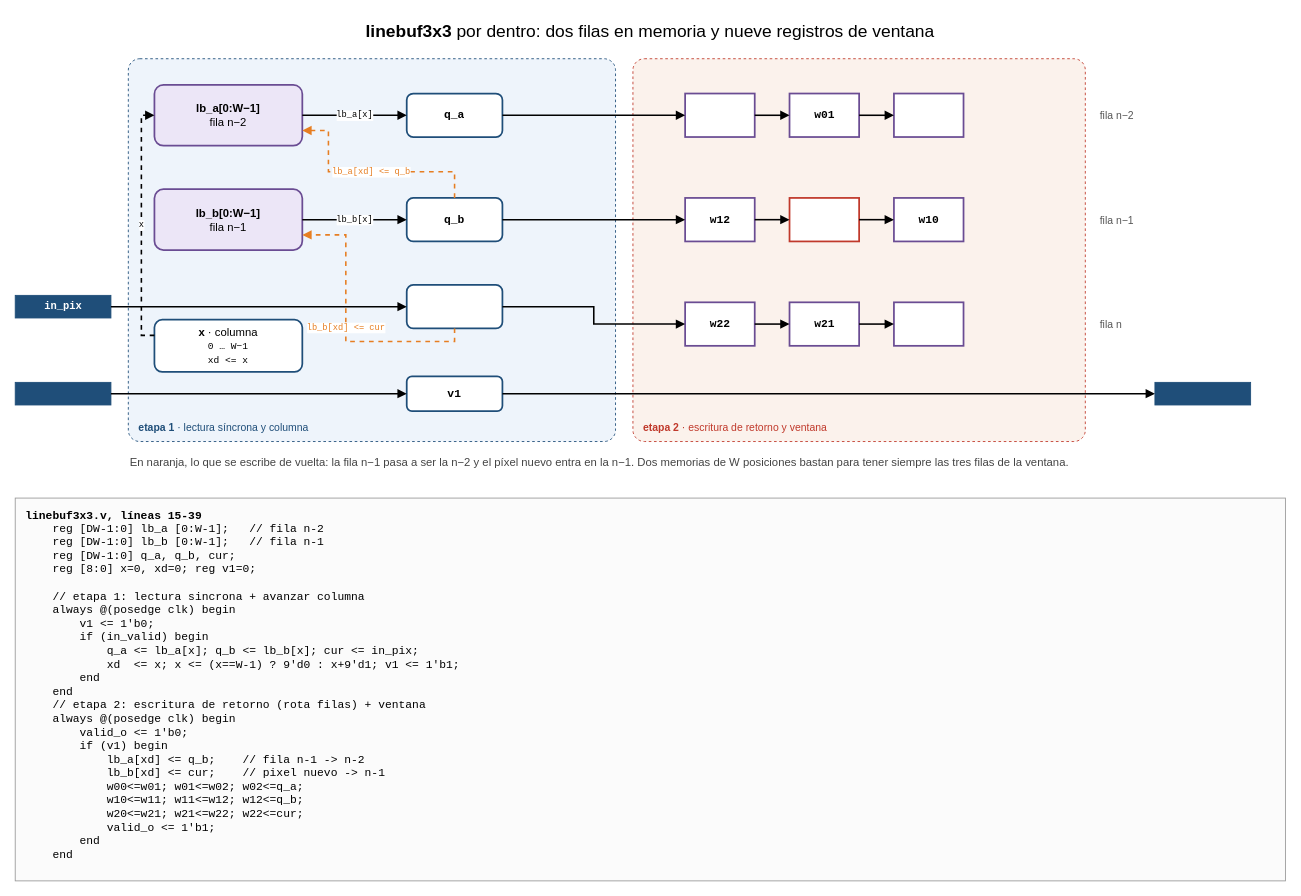
Image size: 1301x896. Some labels were removed from this diagram. Each missing label, with the centre of its shape:
"cur" goes at [454,306].
"in_valid" goes at [62,393].
"valid_o" goes at [1202,393].
"w00" goes at [928,114].
"w02" goes at [719,114].
"w11" goes at [824,219].
"w20" goes at [928,323].
